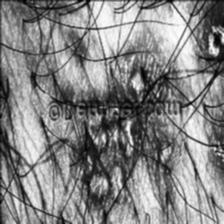Toxin: (72, 56, 176, 208), (207, 20, 224, 56), (217, 134, 224, 168)
